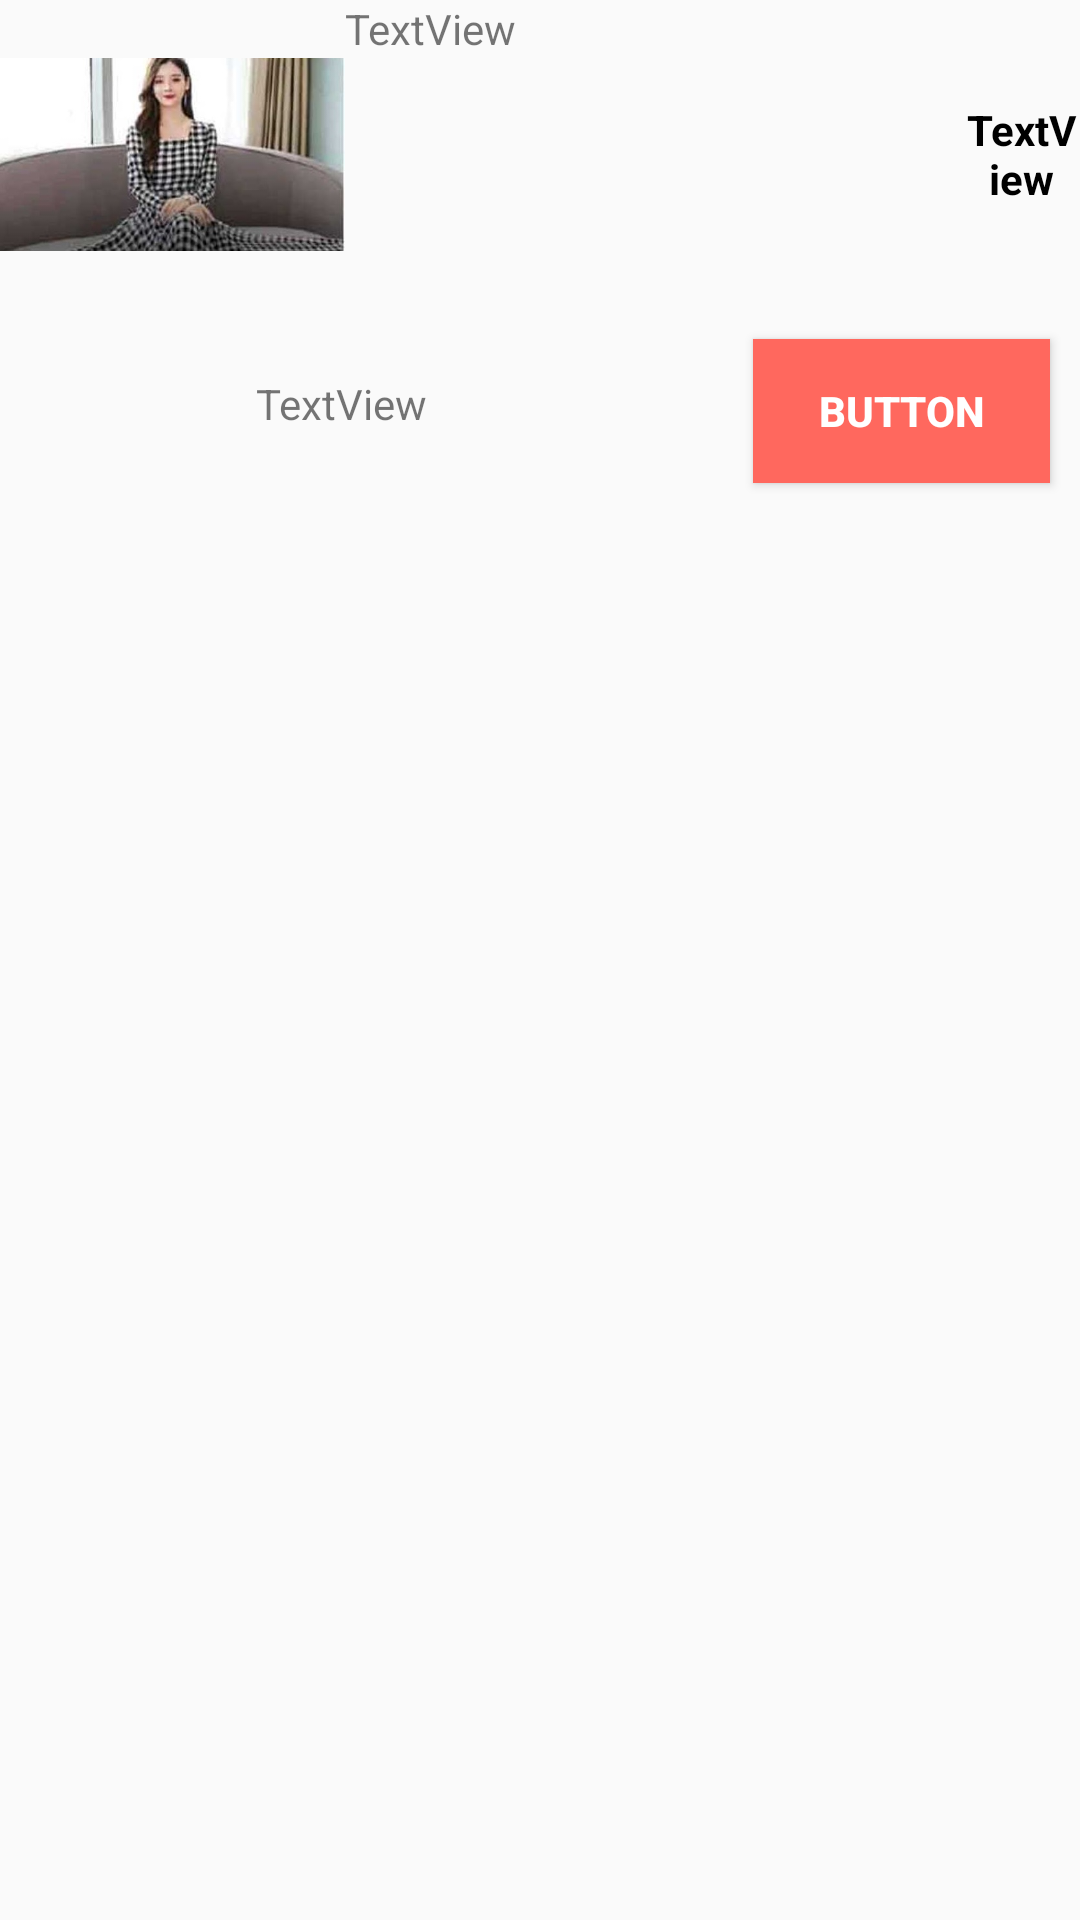

Icon bounding boxes for this 1080×1920 phone screenshot, format (left=x1, top=y1, right=x2, bottom=y2):
dress under: (left=0, top=58, right=344, bottom=251)
